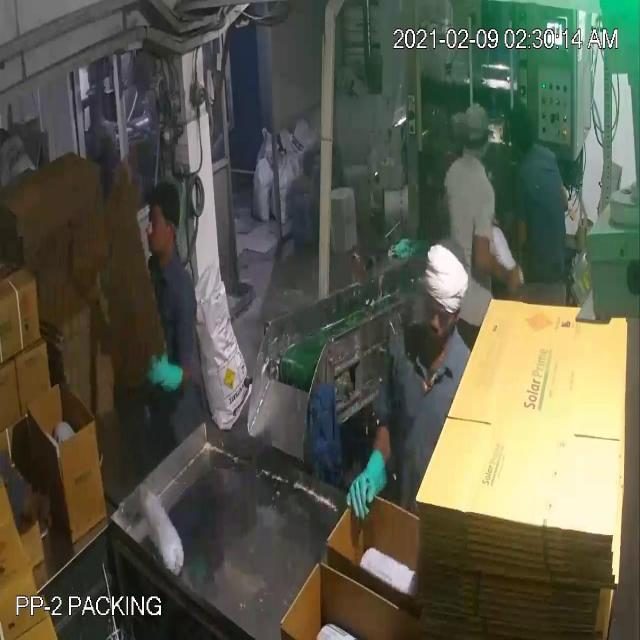Gloves: (33, 66, 494, 498)
